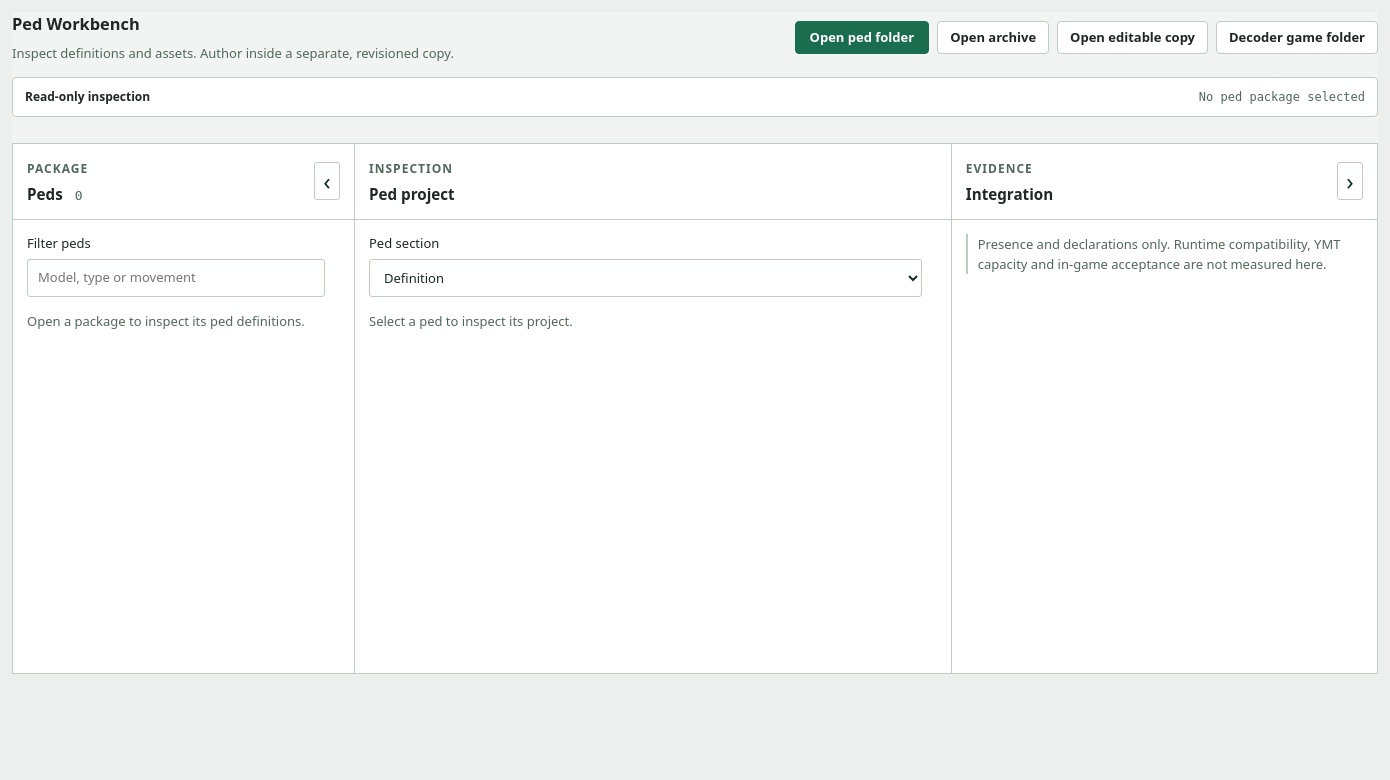
Test: does not enable absent XML nodes or ambiguous authoring targets
Click the button "Open editable copy" at (1133, 37), box x1=1057 y1=21 x2=1208 y2=54
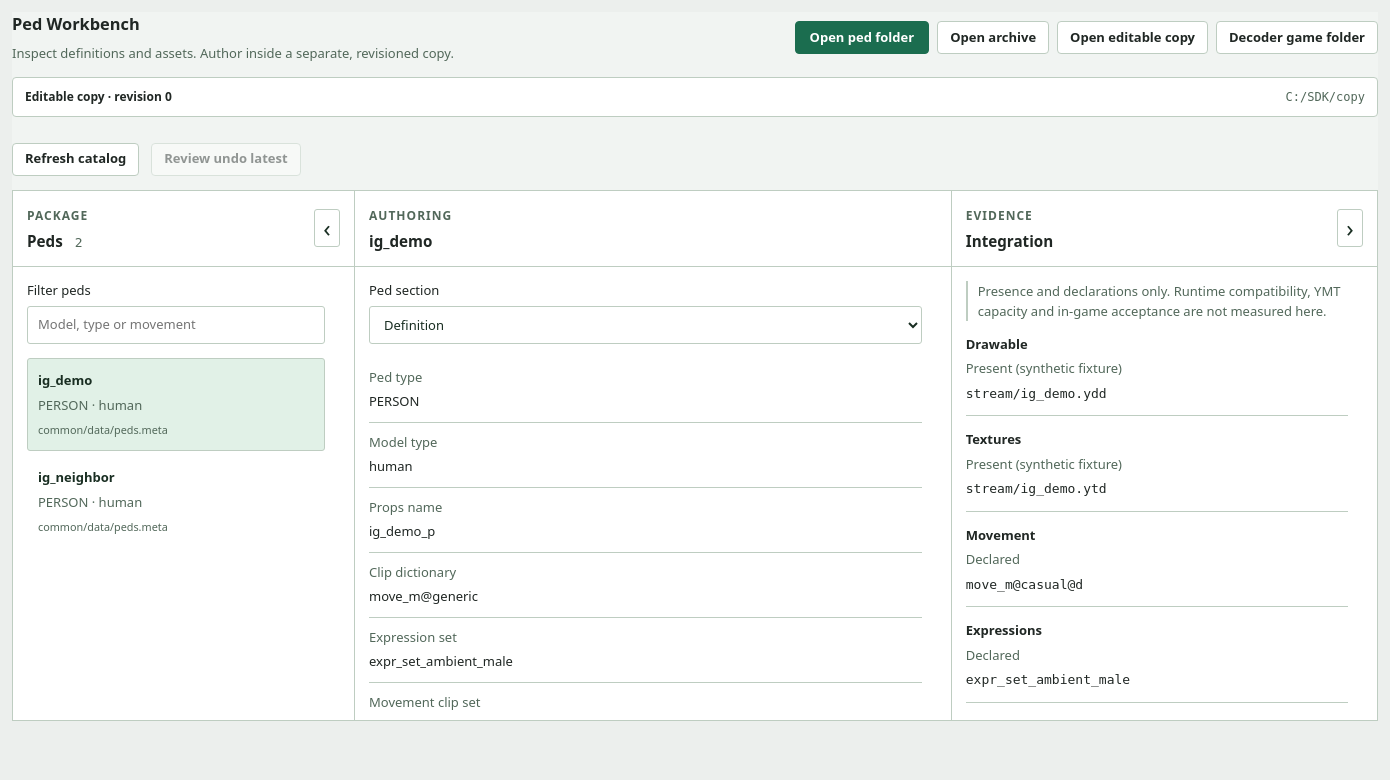
Expected: the text "Editable copy · revision 0" is shown, x1=25 y1=88 x2=172 y2=106
Select "Author fields" in the dropdown labelled "Ped section" at (645, 324), box x1=369 y1=306 x2=922 y2=344
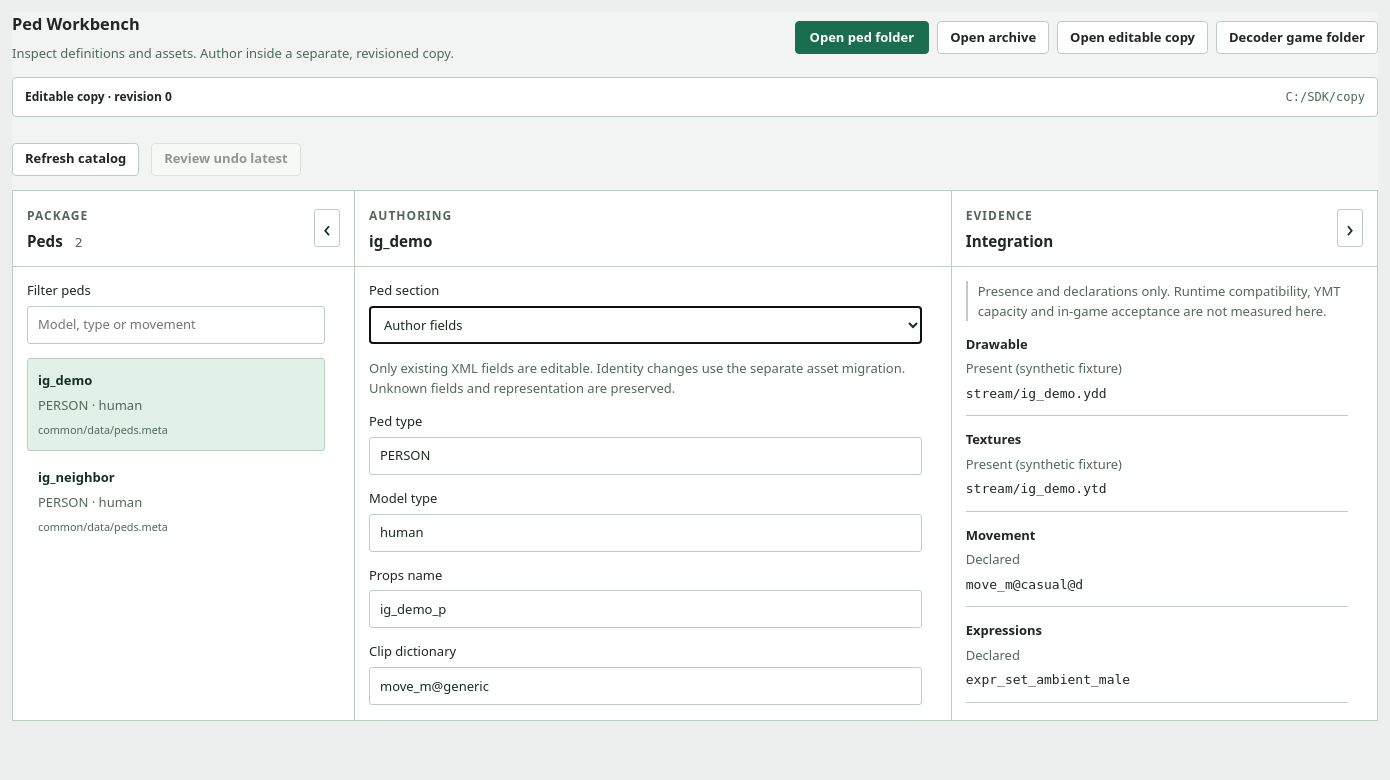
Expected: the field labelled "Model type" is enabled, x1=369 y1=514 x2=922 y2=552
